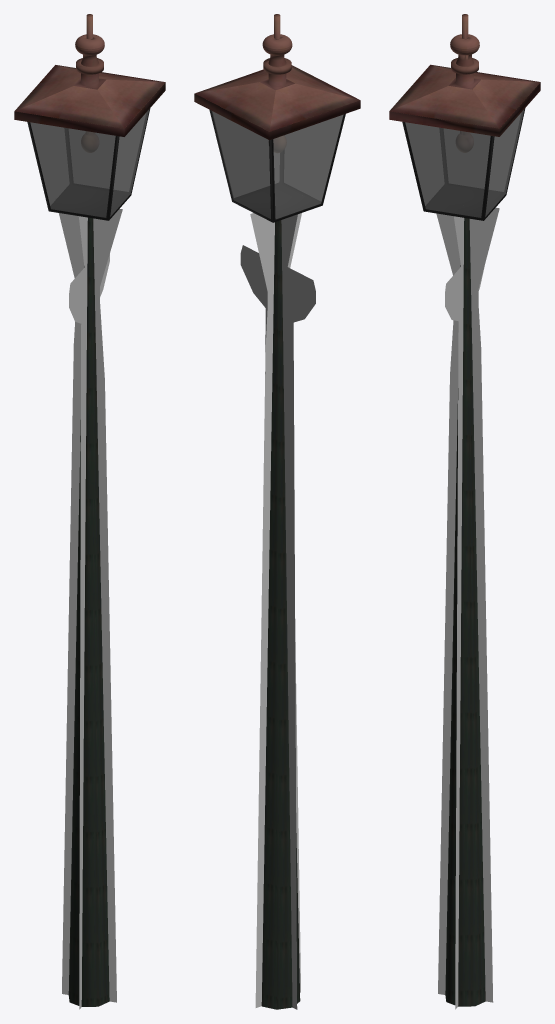
Rendered from lamp.dae.
3 renders of one model, left to right at view 1: azimuth 90°, elevation 25°; view 2: azimuth 150°, elevation 25°; view 3: azimuth 270°, elevation 25°, orthographic.
Parts seen in each view (by area): view 1: lamphoed (×10), paal-compleet (×2), group_1; view 2: lamphoed (×10), paal-compleet (×2), group_1; view 3: lamphoed (×10), paal-compleet (×2), group_1.
Part boxes in pixels (box(x1,y1,x2,y2)): lamphoed (×10): box(14, 34, 165, 220); paal-compleet (×2): box(59, 209, 122, 1009); group_1: box(68, 217, 109, 1006); lamphoed (×10): box(194, 34, 360, 222); paal-compleet (×2): box(240, 213, 315, 1009); group_1: box(261, 220, 300, 1009); lamphoed (×10): box(389, 34, 540, 220); paal-compleet (×2): box(436, 207, 499, 1009); group_1: box(445, 218, 485, 1006).
Size of the model in its own units: 19.24 by 19.24 by 138.
